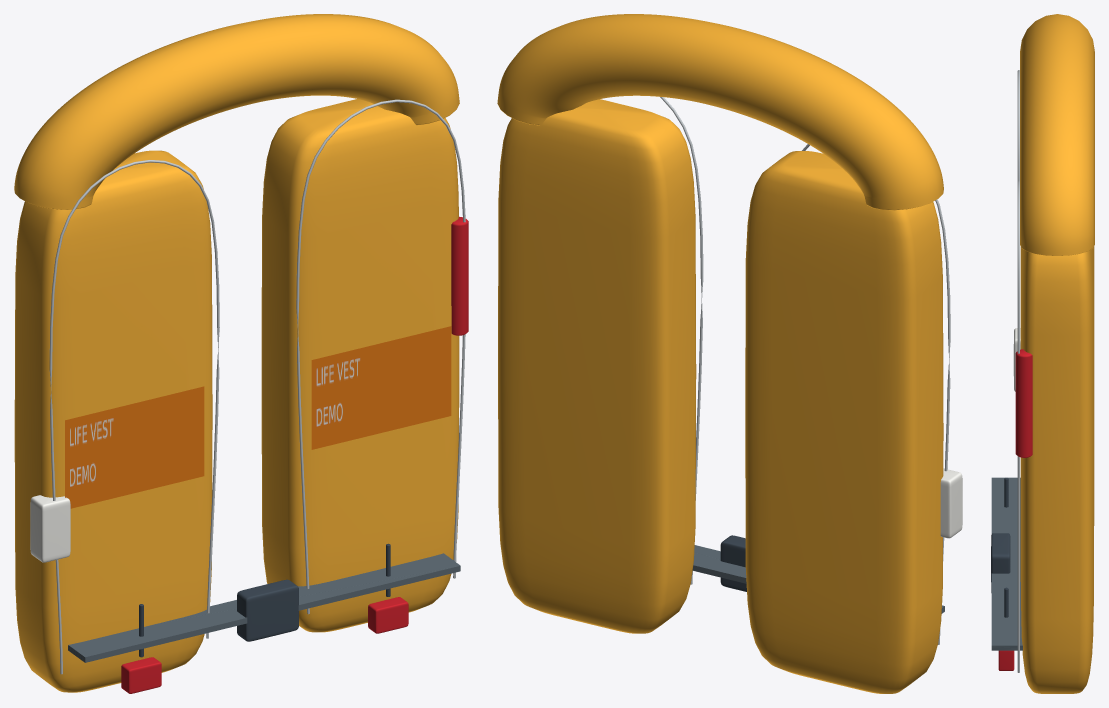
Rendered from life_vest.glb.
3 views of the same model, side by side, from view 1: azimuth 30°, elevation 25°; view 2: azimuth 150°, elevation 25°; view 3: azimuth 270°, elevation 25° (orthographic). The views are drawn at different scales.
Visible parts, largest first — view 1: Right_Inflatable_Lobe, Left_Inflatable_Lobe, Vest_Neck_Collar, Right_Vest_Legend, Left_Vest_Legend, Waist_Webbing, Left_Vest_Seam, Vest_Waist_Buckle, Right_Vest_Seam, Signal_Whistle, Oral_Inflation_Tube, Left_Red_Pull_Tab (+1 smaller); view 2: Right_Inflatable_Lobe, Left_Inflatable_Lobe, Vest_Neck_Collar, Signal_Whistle, Right_Vest_Seam, Waist_Webbing, Left_Vest_Seam, Vest_Waist_Buckle; view 3: Right_Inflatable_Lobe, Vest_Neck_Collar, Waist_Webbing, Oral_Inflation_Tube, Right_Vest_Seam, Vest_Waist_Buckle, Right_Red_Pull_Tab, Left_Vest_Seam, Signal_Whistle, Left_Inflatable_Lobe.
Part boxes in pixels (left/top/right/bottom): Right_Inflatable_Lobe: left=261, top=99, right=459, bottom=632; Left_Inflatable_Lobe: left=14, top=150, right=212, bottom=692; Vest_Neck_Collar: left=14, top=14, right=459, bottom=209; Right_Vest_Legend: left=311, top=326, right=451, bottom=449; Left_Vest_Legend: left=65, top=386, right=204, bottom=508; Waist_Webbing: left=68, top=553, right=460, bottom=662; Left_Vest_Seam: left=49, top=160, right=219, bottom=674; Vest_Waist_Buckle: left=237, top=579, right=298, bottom=641; Right_Vest_Seam: left=296, top=99, right=465, bottom=614; Signal_Whistle: left=30, top=495, right=70, bottom=562; Oral_Inflation_Tube: left=451, top=216, right=468, bottom=335; Left_Red_Pull_Tab: left=121, top=657, right=161, bottom=693; Right_Inflatable_Lobe: left=498, top=99, right=696, bottom=633; Left_Inflatable_Lobe: left=745, top=151, right=943, bottom=693; Vest_Neck_Collar: left=497, top=14, right=943, bottom=210; Signal_Whistle: left=940, top=468, right=962, bottom=538; Right_Vest_Seam: left=660, top=97, right=703, bottom=584; Waist_Webbing: left=692, top=545, right=944, bottom=613; Left_Vest_Seam: left=802, top=144, right=950, bottom=644; Vest_Waist_Buckle: left=720, top=535, right=746, bottom=591; Right_Inflatable_Lobe: left=1020, top=248, right=1094, bottom=693; Vest_Neck_Collar: left=1020, top=14, right=1094, bottom=255; Waist_Webbing: left=991, top=477, right=1022, bottom=650; Oral_Inflation_Tube: left=1015, top=349, right=1032, bottom=457; Right_Vest_Seam: left=1017, top=180, right=1019, bottom=672; Vest_Waist_Buckle: left=991, top=533, right=1010, bottom=592; Right_Red_Pull_Tab: left=998, top=650, right=1014, bottom=670; Left_Vest_Seam: left=1017, top=70, right=1019, bottom=180; Signal_Whistle: left=1013, top=328, right=1020, bottom=391; Left_Inflatable_Lobe: left=1020, top=246, right=1094, bottom=352.
Size of the model in its own units: 0.4062 by 0.548 by 0.0915.
Materials: 8 (3 with a texture image).
